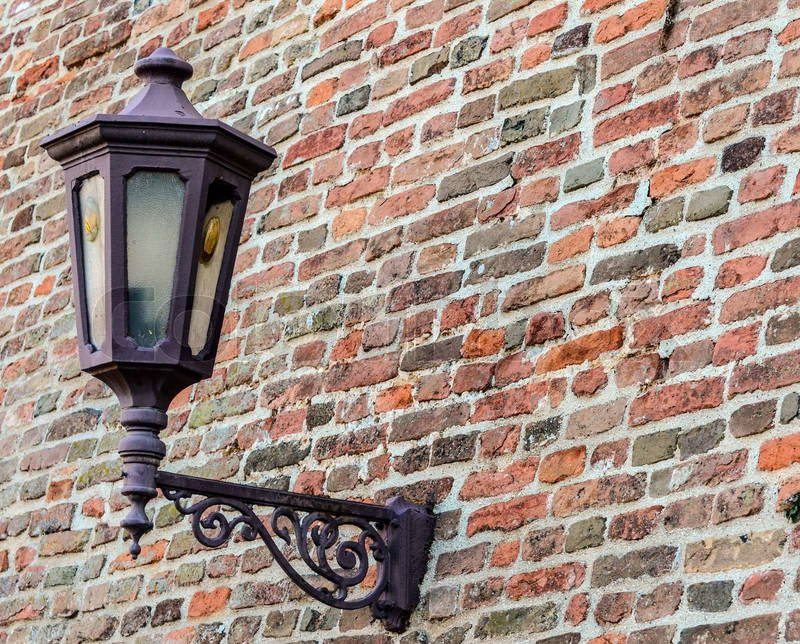Wall: (434, 51, 785, 626), (264, 226, 789, 476)
